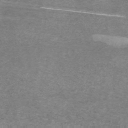finishing roll printing: (40, 6, 125, 18)
